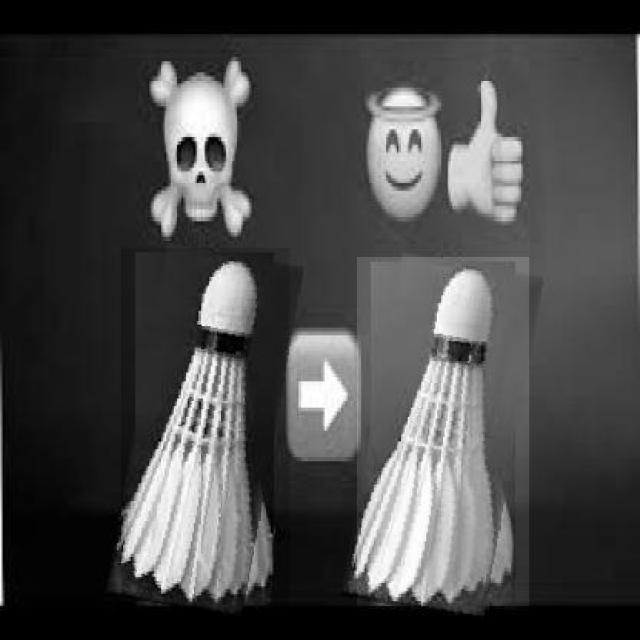Shuttlecock: (120, 248, 289, 614), (357, 257, 529, 615)
